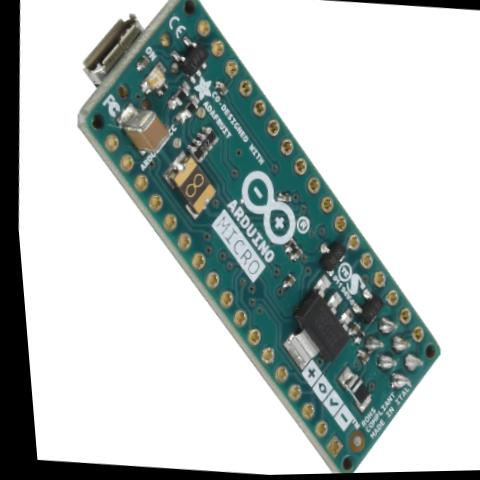Arduino-Micro: (38, 0, 472, 479)
